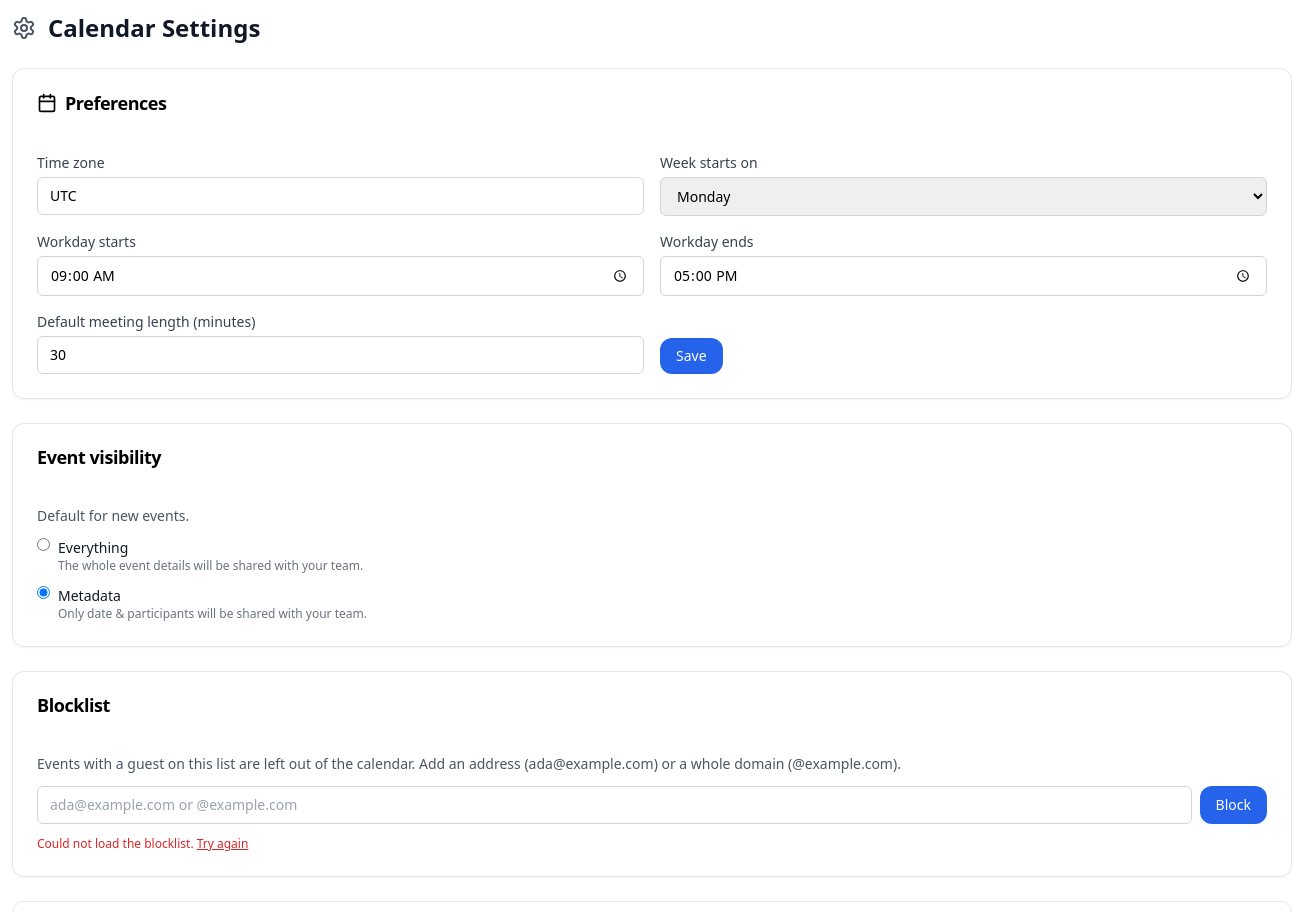
Test: CalendarSettings › loads and saves the default event visibility; a failed save reverts the choice
The width and height of the screenshot is (1292, 912).
Expected: the radio button labelled "Metadata" is checked, [37,586,50,599]
What coordinates should you click on to do the following:
click the radio button labelled "Everything"
I would click on:
 (44, 544)
Its box is [37,538,50,551].
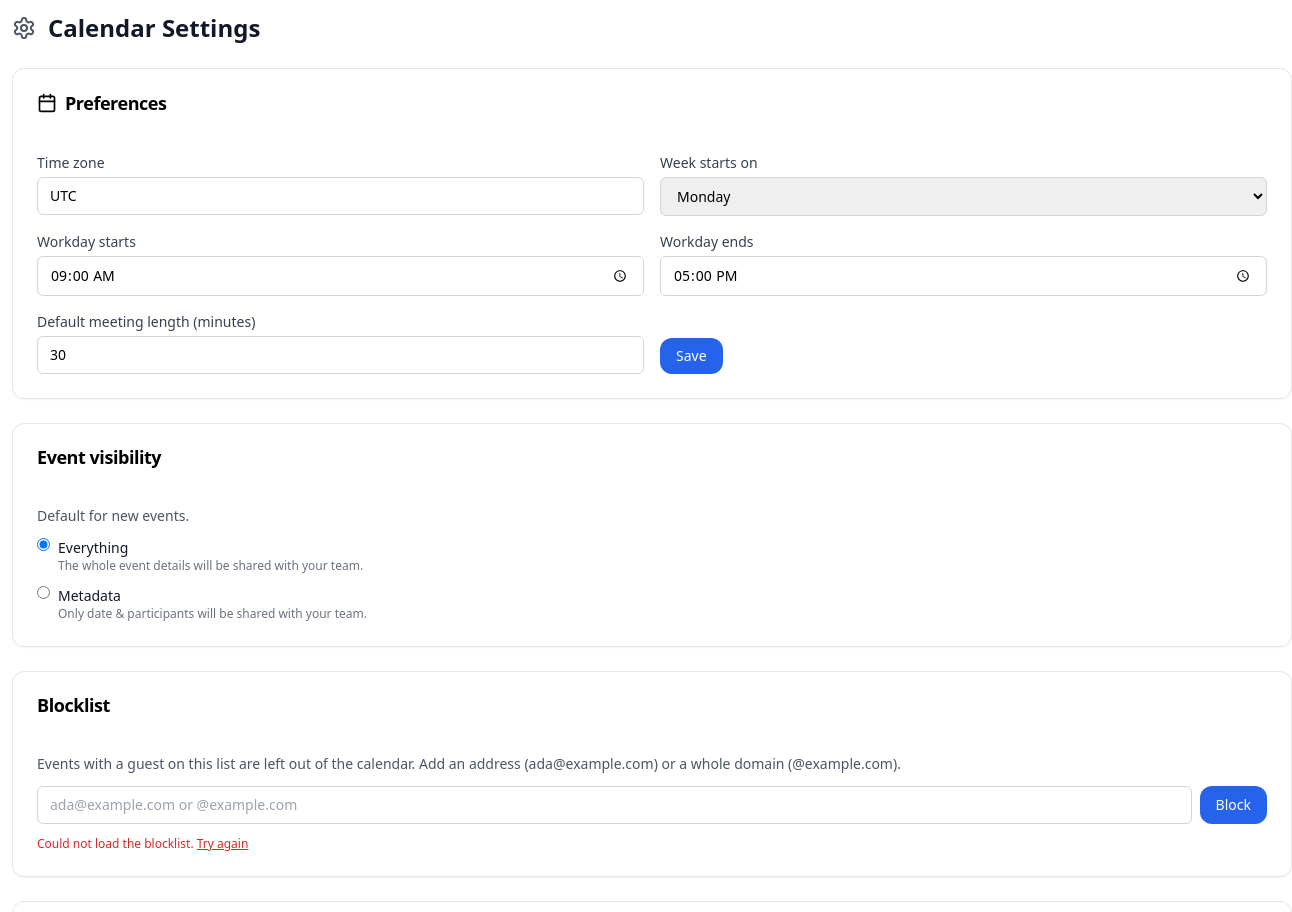
What coordinates should you click on to do the following:
click the radio button labelled "Metadata"
I would click on:
 (44, 592)
Its box is [37,586,50,599].
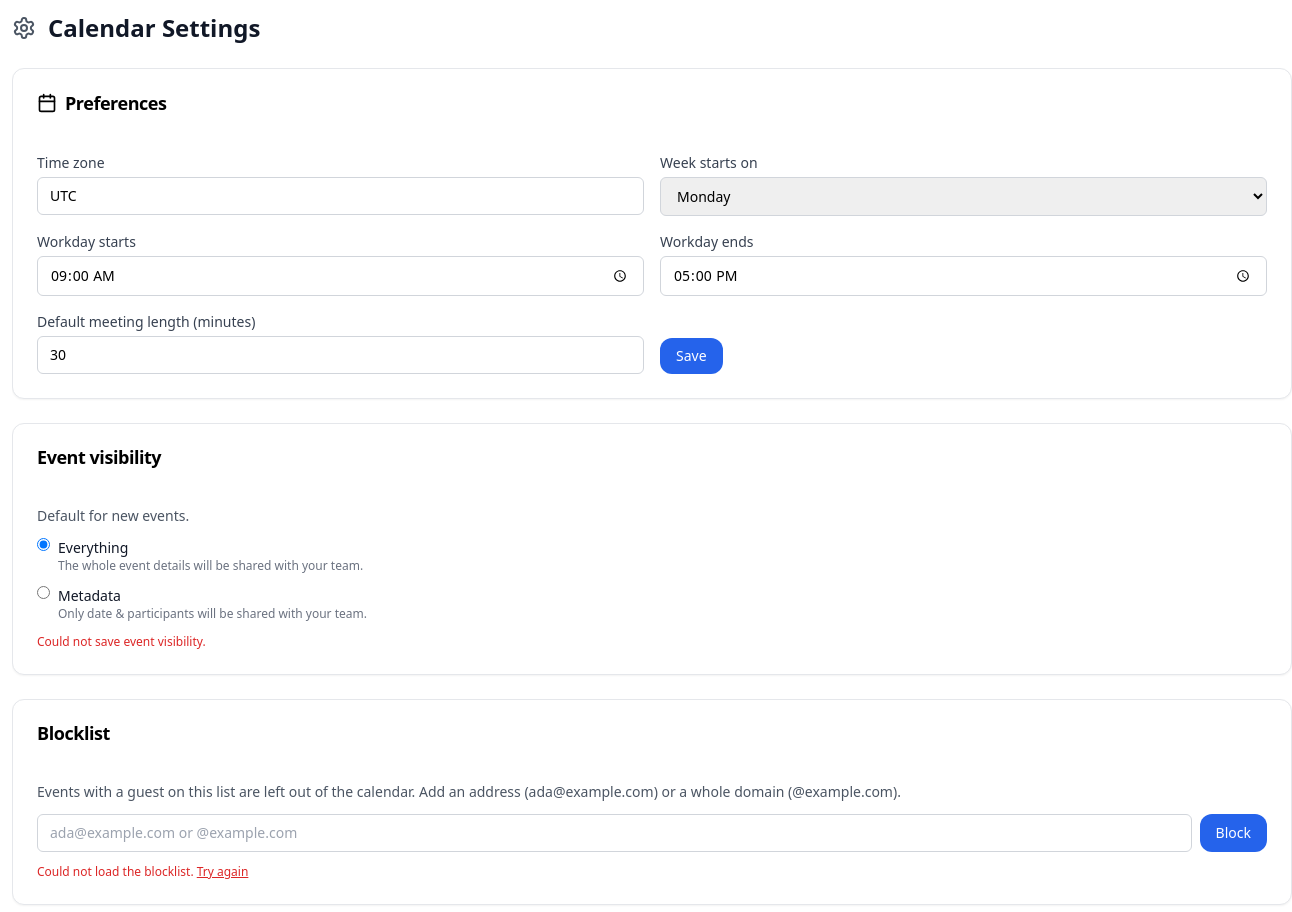
Expected: the radio button labelled "Everything" is checked, [37,538,50,551]
Expected: the text "Could not save event visibility." is shown, [37,633,206,650]
